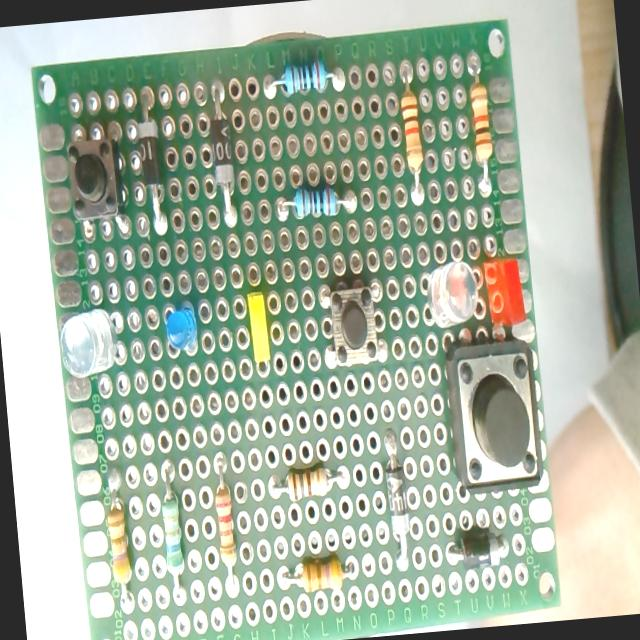diode: (134, 100, 169, 238), (206, 87, 240, 228), (381, 428, 414, 572), (448, 528, 510, 572)
led: (56, 306, 122, 378), (424, 260, 482, 330), (238, 280, 279, 378), (482, 256, 528, 330), (162, 301, 200, 357)
resistor: (465, 55, 497, 196), (102, 473, 134, 608), (397, 64, 428, 202), (158, 463, 188, 600), (210, 454, 239, 590), (276, 180, 356, 223), (264, 57, 344, 100), (278, 555, 355, 596), (269, 462, 347, 501)
switch: (444, 336, 544, 493), (62, 129, 123, 226), (326, 280, 380, 366)
